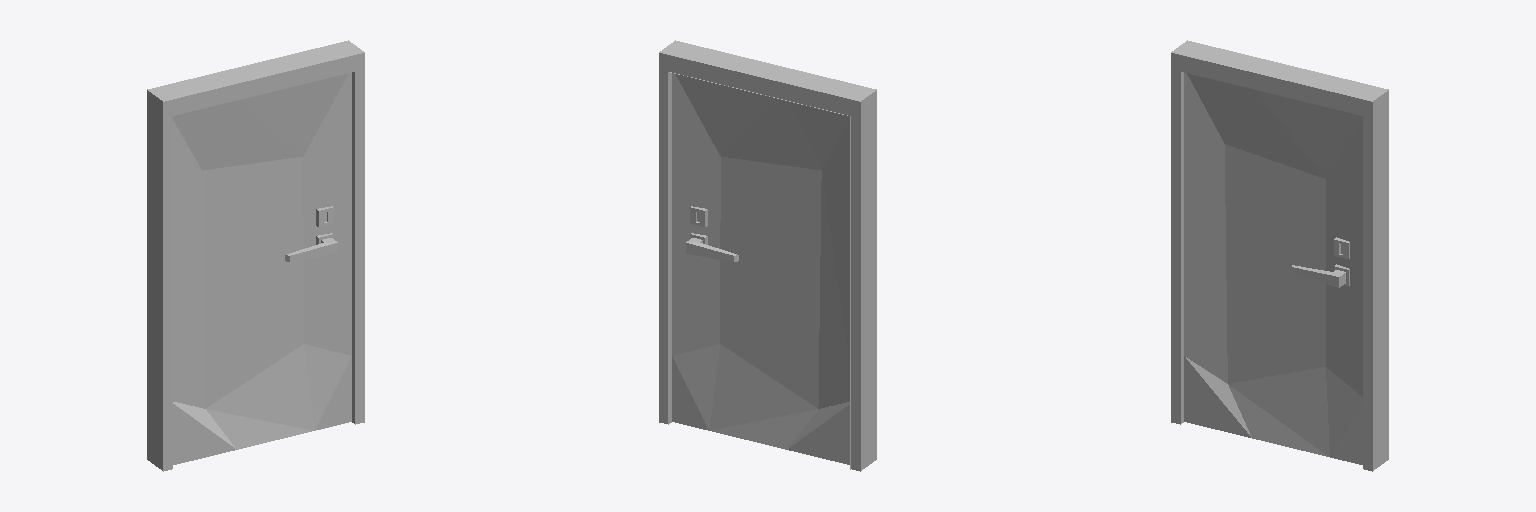
Rendered from Porta.obj.
The picture shows the model from 3 angles: view 1: azimuth 30°, elevation 25°; view 2: azimuth 150°, elevation 25°; view 3: azimuth 330°, elevation 25°; orthographic projection.
Parts seen in each view (by area): view 1: unknown; view 2: unknown; view 3: unknown.
Part boxes in pixels (left/top/right/bottom): unknown: left=147, top=40, right=364, bottom=471; unknown: left=659, top=40, right=876, bottom=471; unknown: left=1171, top=40, right=1388, bottom=471.
Bounding box in the file's own units: 1.16 × 2.03 × 0.2274.